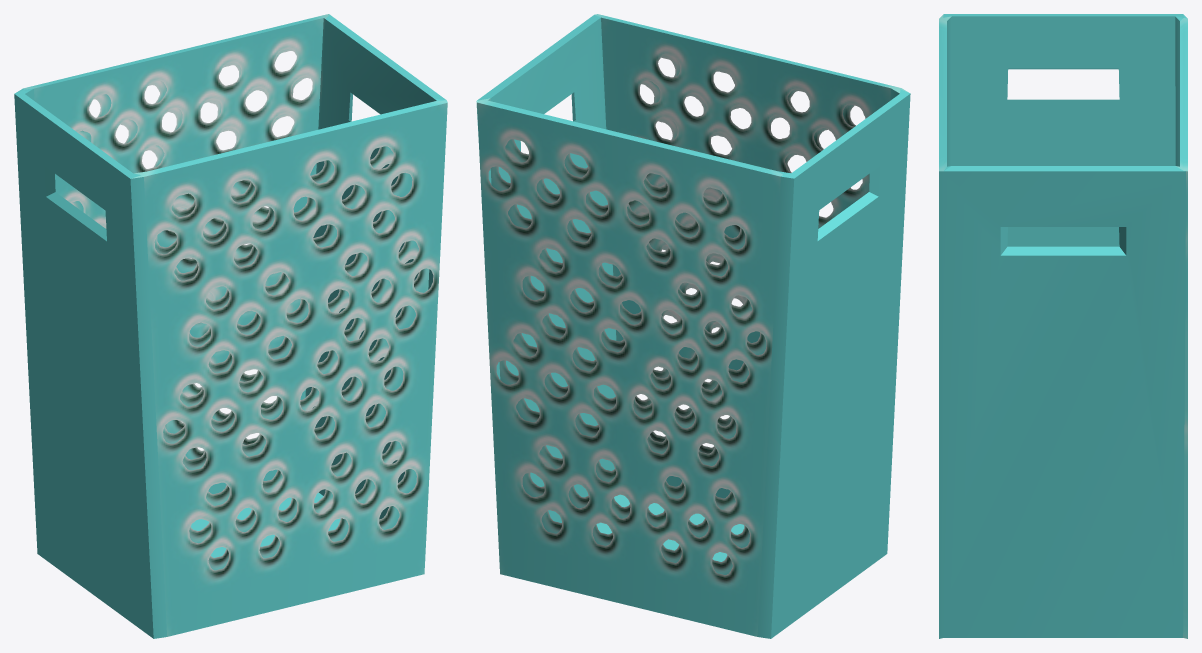
File: Hamper_A.FBX
The picture shows the model from 3 angles, left to right: view 1: azimuth 30°, elevation 25°; view 2: azimuth 150°, elevation 25°; view 3: azimuth 270°, elevation 25°; orthographic projection. The views are drawn at different scales.
Visible parts, largest first — view 1: Hamper; view 2: Hamper; view 3: Hamper.
Boxes of the visible parts, <box> form: Hamper: <box>14,14,447,638</box>; Hamper: <box>476,14,910,638</box>; Hamper: <box>939,14,1187,638</box>.
Bounding box in the file's own units: 105 × 148 × 69.41.
